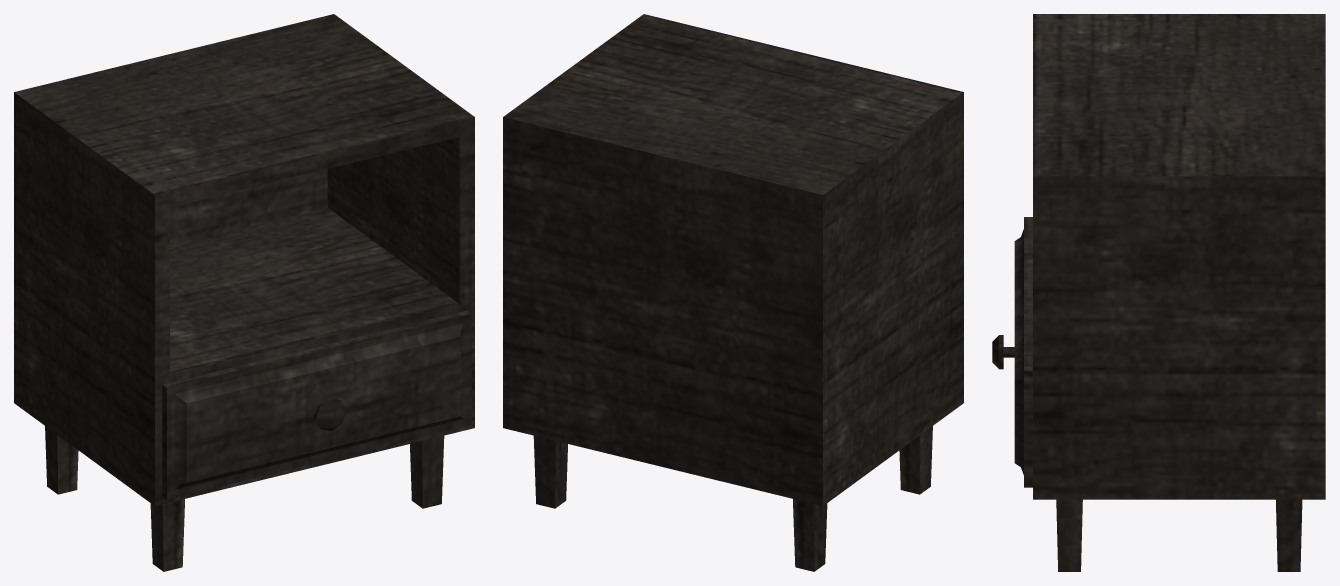
File: bedside_table_2.obj
3 renders of one model, left to right at view 1: azimuth 30°, elevation 25°; view 2: azimuth 150°, elevation 25°; view 3: azimuth 270°, elevation 25°, orthographic. The views are drawn at different scales.
Visible parts, largest first — view 1: bedside_table_2, bedside_table_2_drawer; view 2: bedside_table_2; view 3: bedside_table_2, bedside_table_2_drawer.
Boxes of the visible parts, x1,y1,x2,y2 form: bedside_table_2: [14, 14, 474, 571]; bedside_table_2_drawer: [162, 310, 471, 499]; bedside_table_2: [503, 14, 963, 571]; bedside_table_2: [1033, 14, 1325, 571]; bedside_table_2_drawer: [992, 217, 1032, 487].
Size of the model in its own units: 0.504 by 0.588 by 0.4374.
